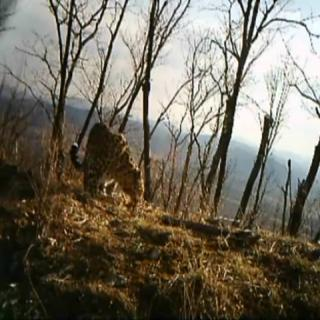Leopard: (64, 112, 158, 211)
